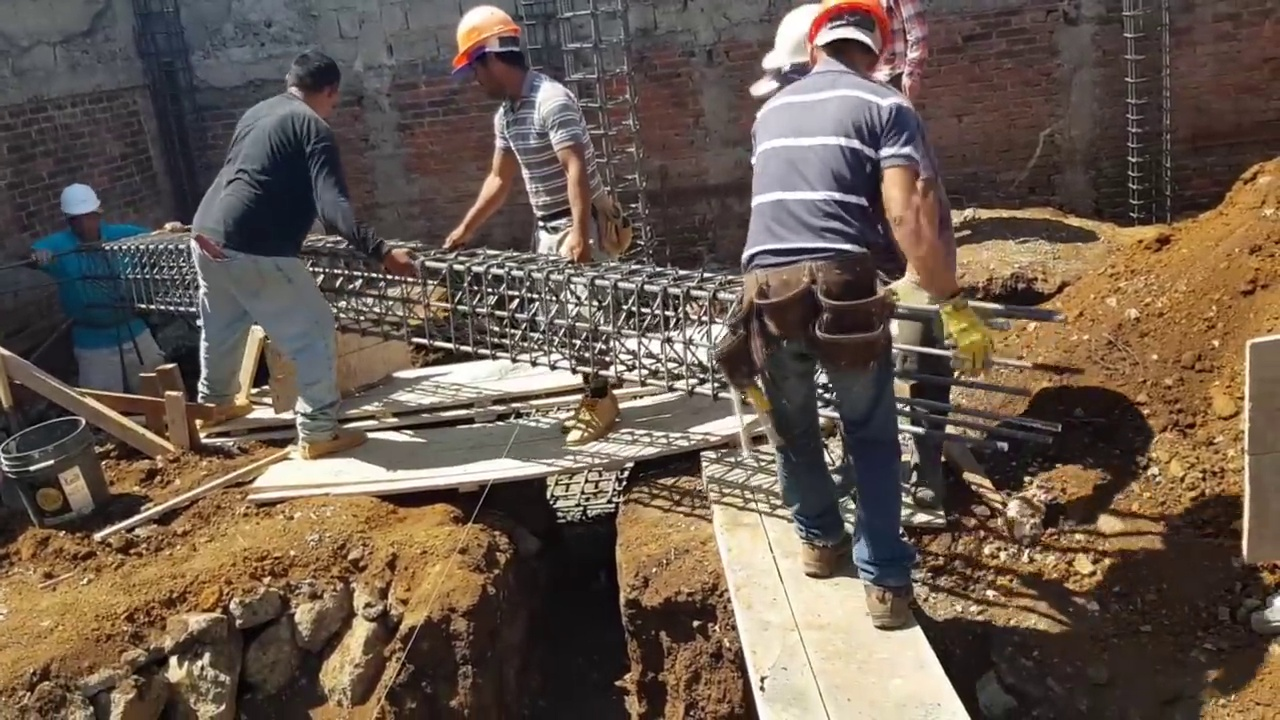helmet: (805, 0, 891, 62), (447, 6, 523, 76), (756, 7, 821, 72), (58, 182, 100, 217)
helmet-off: (283, 47, 338, 115)
helmet-on: (447, 7, 530, 104), (805, 0, 891, 84), (57, 183, 102, 239)
person: (708, 0, 967, 624), (187, 38, 372, 485), (441, 1, 627, 438), (35, 183, 154, 415), (873, 0, 934, 119)
